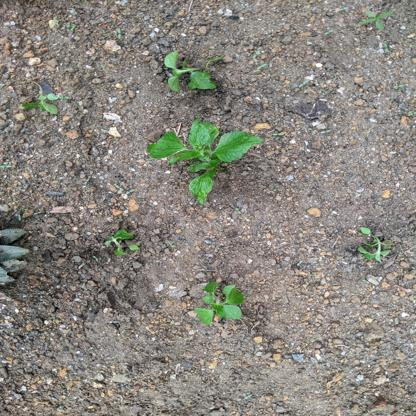weed: (145, 117, 265, 206), (162, 50, 225, 99), (193, 281, 245, 324), (355, 225, 400, 267), (21, 81, 68, 119), (103, 227, 136, 259)
